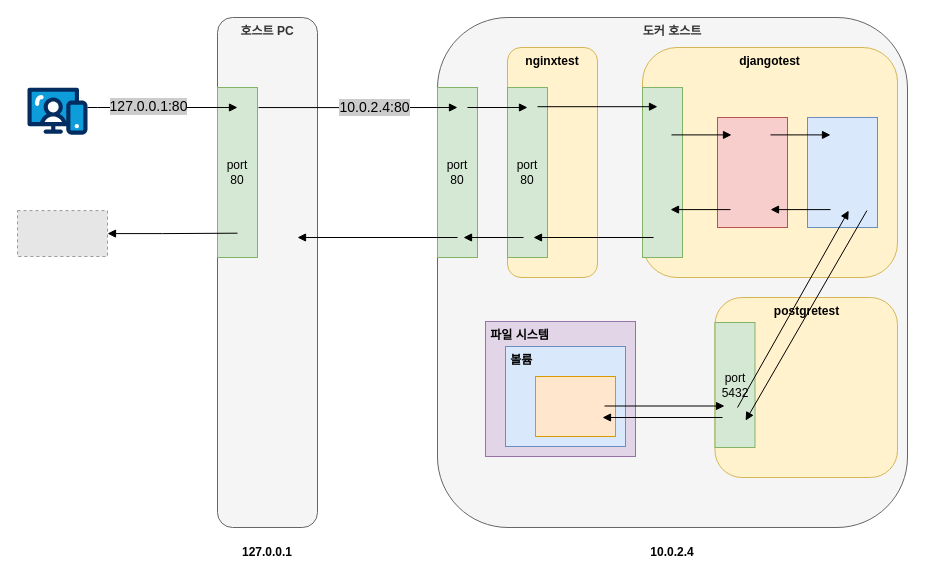
Image size: 925x585. Some labels were removed from this diagram. Grey dashed boxes stand in for pictures. Here are the shapes that lost their labels. From the top down, the centre of each, then its label:
At point 662,172: "port 8000".
At point 752,172: "gunicorn".
At point 842,172: "myapp".
At point 575,406: "디렉터리".
